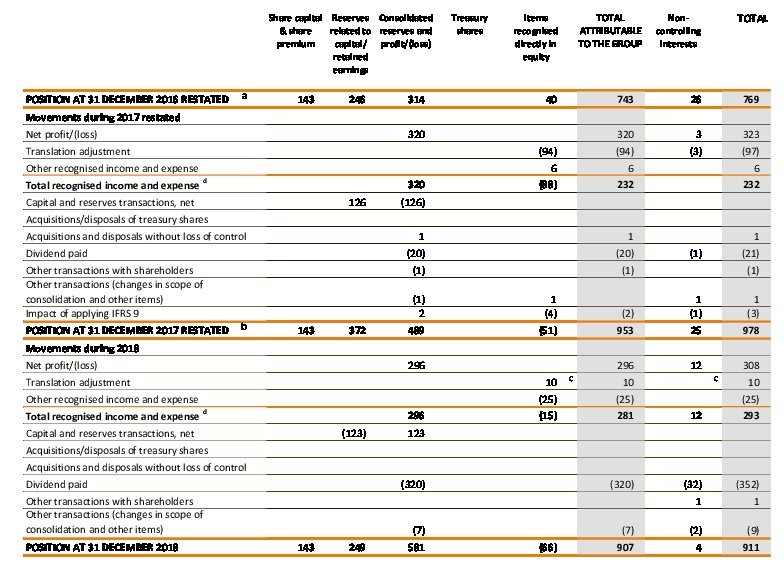table: (0, 0, 784, 569)
